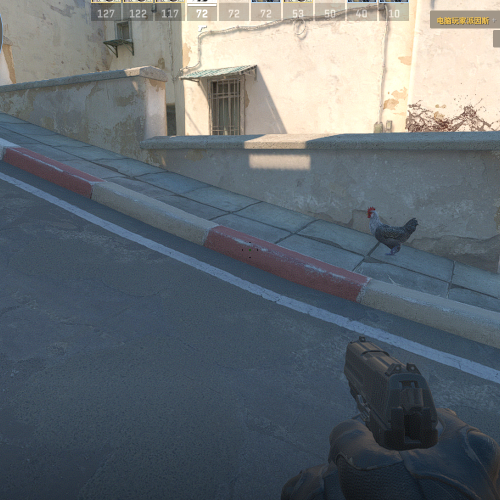chicken: (366, 207, 419, 257)
